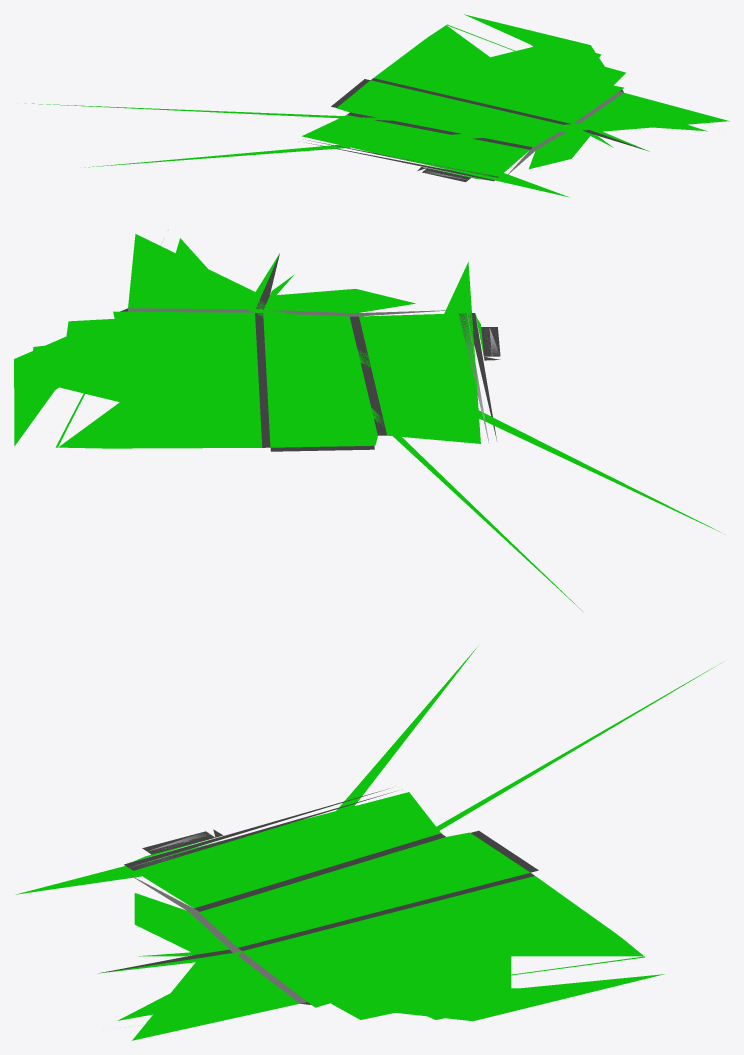
3 renders of one model, top to bottom at view 1: azimuth 30°, elevation 25°; view 2: azimuth 150°, elevation 25°; view 3: azimuth 270°, elevation 25°, orthographic. The views are drawn at different scales.
Size of the model in its own units: 374 by 0.001 by 285.
